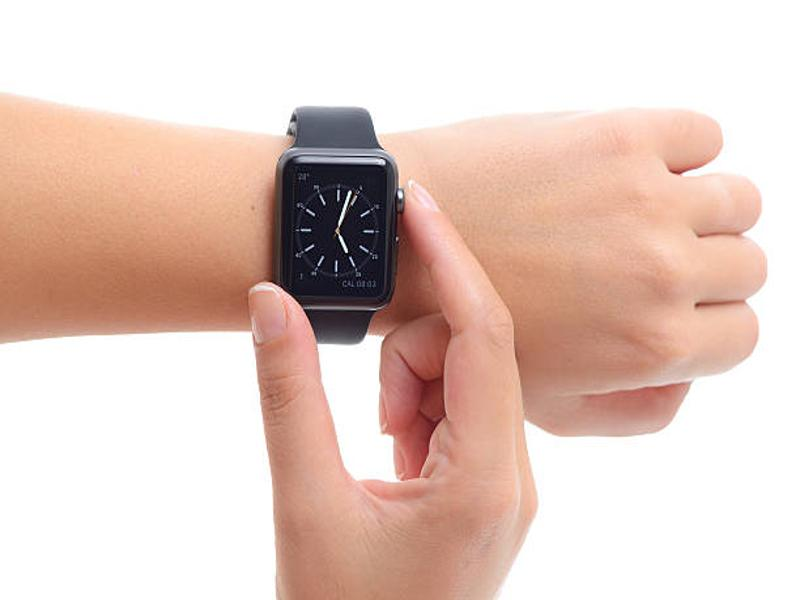watch: (274, 99, 411, 347)
